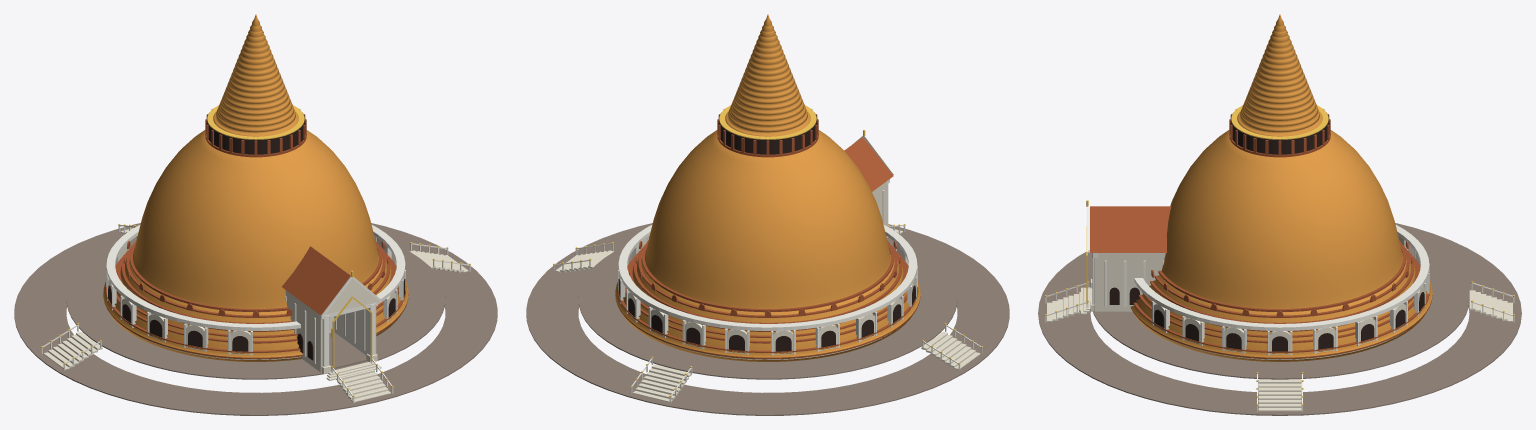
The model's file is HNP_Chedi_Modular_ProductionStaging_v002.fbx.
The picture shows the model from 3 angles, left to right: view 1: azimuth 30°, elevation 25°; view 2: azimuth 150°, elevation 25°; view 3: azimuth 270°, elevation 25°; orthographic projection.
Parts seen in each view (by area): view 1: HNP_Chedi_v002_M01_Core__HNP_Chedi_GoldTile, HNP_Chedi_v002_M02_Exterior__HNP_Chedi_Stone, HNP_Chedi_v002_M01_Core__HNP_Chedi_Terracotta, HNP_Chedi_v002_M01_Core__HNP_Chedi_White, HNP_Chedi_v002_M03_Shell__HNP_Chedi_Ivory, HNP_Chedi_v002_M02_Exterior__HNP_Chedi_Ivory, HNP_Chedi_v002_M03_Shell__HNP_Chedi_Terracotta, HNP_Chedi_v002_M01_Core__HNP_Chedi_DarkInset, HNP_Chedi_v002_M03_Shell__HNP_Chedi_White, HNP_Chedi_v002_M01_Core__HNP_Chedi_Ivory, HNP_Chedi_v002_M04_Interior__HNP_Chedi_White, HNP_Chedi_v002_M02_Exterior__HNP_Chedi_White (+2 smaller); view 2: HNP_Chedi_v002_M01_Core__HNP_Chedi_GoldTile, HNP_Chedi_v002_M02_Exterior__HNP_Chedi_Stone, HNP_Chedi_v002_M01_Core__HNP_Chedi_Terracotta, HNP_Chedi_v002_M01_Core__HNP_Chedi_White, HNP_Chedi_v002_M02_Exterior__HNP_Chedi_Ivory, HNP_Chedi_v002_M01_Core__HNP_Chedi_DarkInset, HNP_Chedi_v002_M01_Core__HNP_Chedi_Ivory, HNP_Chedi_v002_M03_Shell__HNP_Chedi_Terracotta, HNP_Chedi_v002_M02_Exterior__HNP_Chedi_White, HNP_Chedi_v002_M01_Core__HNP_Chedi_GoldTrim; view 3: HNP_Chedi_v002_M01_Core__HNP_Chedi_GoldTile, HNP_Chedi_v002_M02_Exterior__HNP_Chedi_Stone, HNP_Chedi_v002_M01_Core__HNP_Chedi_Terracotta, HNP_Chedi_v002_M01_Core__HNP_Chedi_White, HNP_Chedi_v002_M03_Shell__HNP_Chedi_Terracotta, HNP_Chedi_v002_M03_Shell__HNP_Chedi_Ivory, HNP_Chedi_v002_M02_Exterior__HNP_Chedi_Ivory, HNP_Chedi_v002_M01_Core__HNP_Chedi_DarkInset, HNP_Chedi_v002_M01_Core__HNP_Chedi_Ivory, HNP_Chedi_v002_M03_Shell__HNP_Chedi_White, HNP_Chedi_v002_M01_Core__HNP_Chedi_GoldTrim, HNP_Chedi_v002_M02_Exterior__HNP_Chedi_White.
Boxes of the visible parts, bbox=[...] form: HNP_Chedi_v002_M01_Core__HNP_Chedi_GoldTile: bbox=[103, 14, 408, 361]; HNP_Chedi_v002_M02_Exterior__HNP_Chedi_Stone: bbox=[14, 223, 497, 415]; HNP_Chedi_v002_M01_Core__HNP_Chedi_Terracotta: bbox=[103, 109, 408, 358]; HNP_Chedi_v002_M01_Core__HNP_Chedi_White: bbox=[106, 225, 405, 359]; HNP_Chedi_v002_M03_Shell__HNP_Chedi_Ivory: bbox=[285, 278, 381, 380]; HNP_Chedi_v002_M02_Exterior__HNP_Chedi_Ivory: bbox=[43, 228, 468, 402]; HNP_Chedi_v002_M03_Shell__HNP_Chedi_Terracotta: bbox=[282, 246, 350, 314]; HNP_Chedi_v002_M01_Core__HNP_Chedi_DarkInset: bbox=[108, 114, 405, 353]; HNP_Chedi_v002_M03_Shell__HNP_Chedi_White: bbox=[285, 276, 382, 366]; HNP_Chedi_v002_M01_Core__HNP_Chedi_Ivory: bbox=[108, 238, 404, 354]; HNP_Chedi_v002_M04_Interior__HNP_Chedi_White: bbox=[334, 309, 367, 354]; HNP_Chedi_v002_M02_Exterior__HNP_Chedi_White: bbox=[41, 225, 470, 403]; HNP_Chedi_v002_M01_Core__HNP_Chedi_GoldTile: bbox=[615, 14, 920, 361]; HNP_Chedi_v002_M02_Exterior__HNP_Chedi_Stone: bbox=[526, 223, 1009, 415]; HNP_Chedi_v002_M01_Core__HNP_Chedi_Terracotta: bbox=[615, 109, 920, 358]; HNP_Chedi_v002_M01_Core__HNP_Chedi_White: bbox=[618, 225, 917, 359]; HNP_Chedi_v002_M02_Exterior__HNP_Chedi_Ivory: bbox=[555, 228, 980, 402]; HNP_Chedi_v002_M01_Core__HNP_Chedi_DarkInset: bbox=[618, 114, 915, 353]; HNP_Chedi_v002_M01_Core__HNP_Chedi_Ivory: bbox=[619, 238, 915, 354]; HNP_Chedi_v002_M03_Shell__HNP_Chedi_Terracotta: bbox=[844, 137, 893, 191]; HNP_Chedi_v002_M02_Exterior__HNP_Chedi_White: bbox=[553, 225, 982, 403]; HNP_Chedi_v002_M01_Core__HNP_Chedi_GoldTrim: bbox=[719, 105, 816, 139]; HNP_Chedi_v002_M01_Core__HNP_Chedi_GoldTile: bbox=[1131, 14, 1432, 361]; HNP_Chedi_v002_M02_Exterior__HNP_Chedi_Stone: bbox=[1038, 223, 1521, 415]; HNP_Chedi_v002_M01_Core__HNP_Chedi_Terracotta: bbox=[1130, 109, 1432, 358]; HNP_Chedi_v002_M01_Core__HNP_Chedi_White: bbox=[1134, 225, 1429, 359]; HNP_Chedi_v002_M03_Shell__HNP_Chedi_Terracotta: bbox=[1090, 206, 1171, 252]; HNP_Chedi_v002_M03_Shell__HNP_Chedi_Ivory: bbox=[1081, 207, 1165, 314]; HNP_Chedi_v002_M02_Exterior__HNP_Chedi_Ivory: bbox=[1047, 290, 1512, 411]; HNP_Chedi_v002_M01_Core__HNP_Chedi_DarkInset: bbox=[1154, 114, 1429, 353]; HNP_Chedi_v002_M01_Core__HNP_Chedi_Ivory: bbox=[1153, 236, 1424, 354]; HNP_Chedi_v002_M03_Shell__HNP_Chedi_White: bbox=[1086, 206, 1164, 306]; HNP_Chedi_v002_M01_Core__HNP_Chedi_GoldTrim: bbox=[1231, 105, 1328, 139]; HNP_Chedi_v002_M02_Exterior__HNP_Chedi_White: bbox=[1045, 283, 1514, 411].
Bounding box in the file's own units: 74 × 50.58 × 74.
